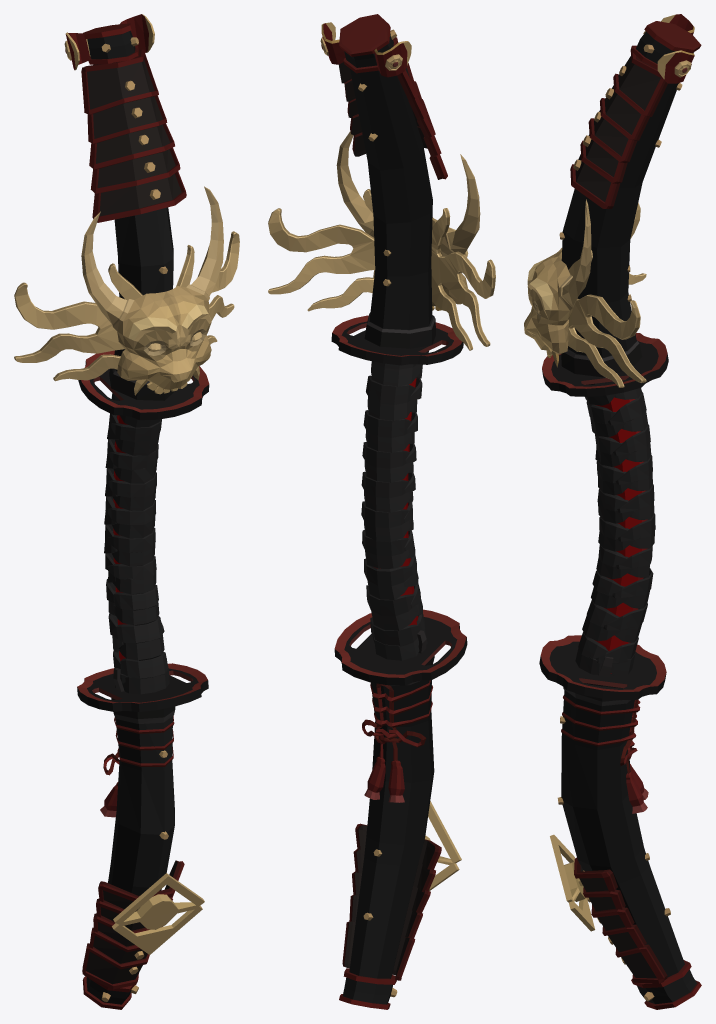
The model's file is mediumBowSamuraiHandle.glb.
3 renders of one model, left to right at view 1: azimuth 30°, elevation 25°; view 2: azimuth 150°, elevation 25°; view 3: azimuth 270°, elevation 25°, orthographic.
Visible parts, largest first — view 1: mediumBowSamuraiHandle; view 2: mediumBowSamuraiHandle; view 3: mediumBowSamuraiHandle.
Boxes of the visible parts, box(x1,y1,x2,y2) form: mediumBowSamuraiHandle: box(14, 14, 239, 1009); mediumBowSamuraiHandle: box(268, 14, 495, 1009); mediumBowSamuraiHandle: box(524, 14, 701, 1009).
Bounding box in the file's own units: 0.2494 × 1.04 × 0.1705.
